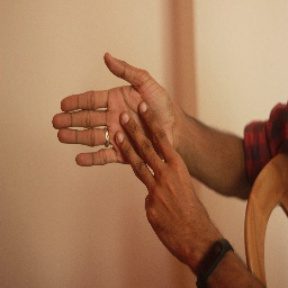M: (49, 49, 179, 183)
